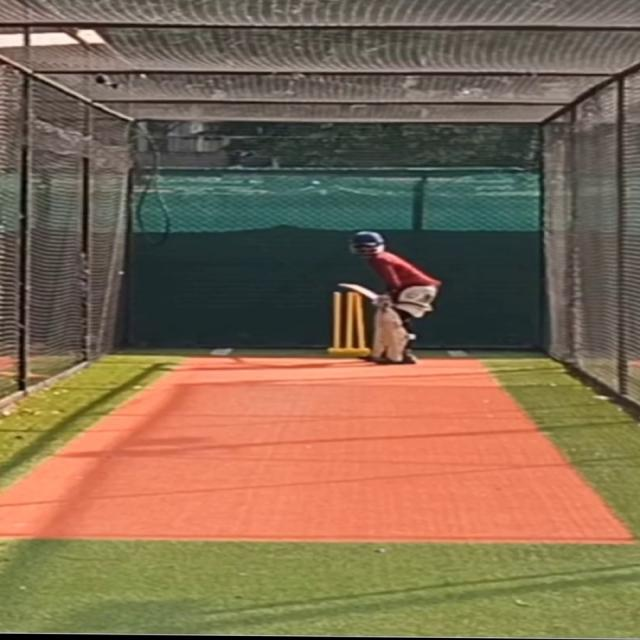stump: (327, 291, 369, 358)
